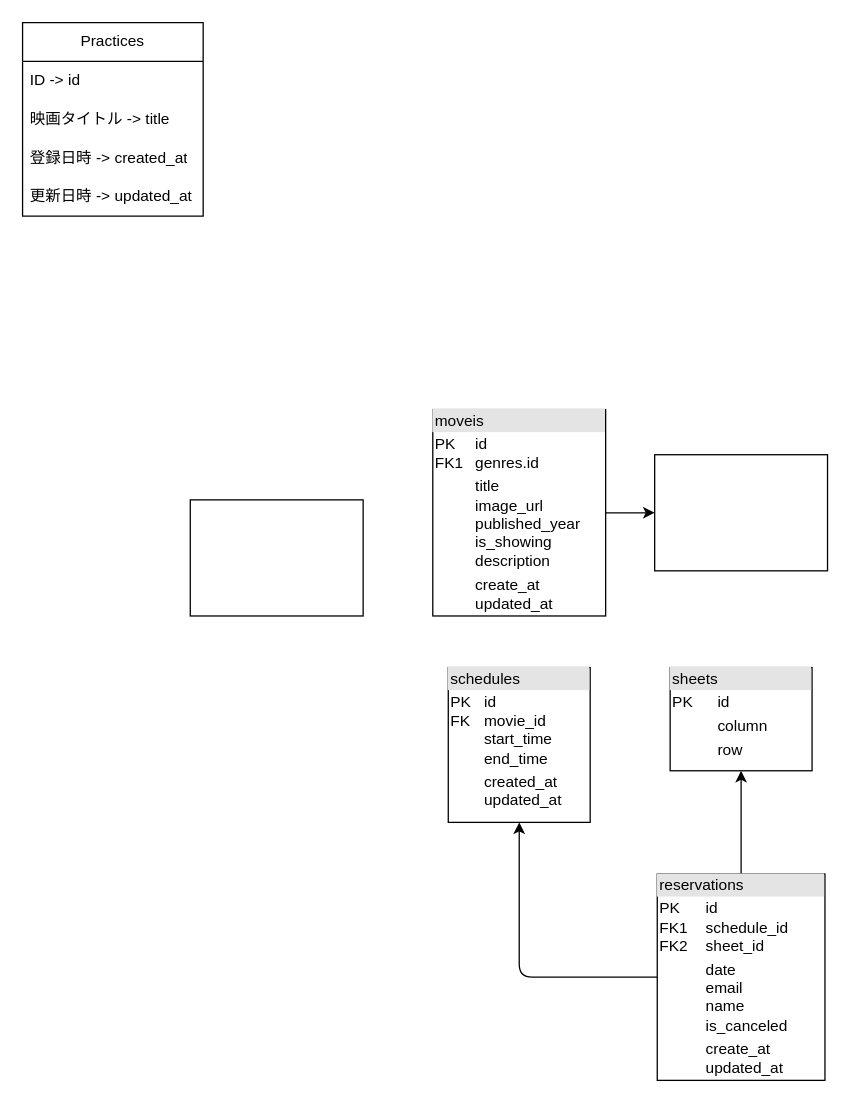
This 850x1103 diagram has some shape labels left out. Each missing label, with the box of its shape:
Practice PK id title create_at updated_at: (189, 499, 363, 616)
◎genres PK id name create_at updated_at: (653, 453, 828, 571)
